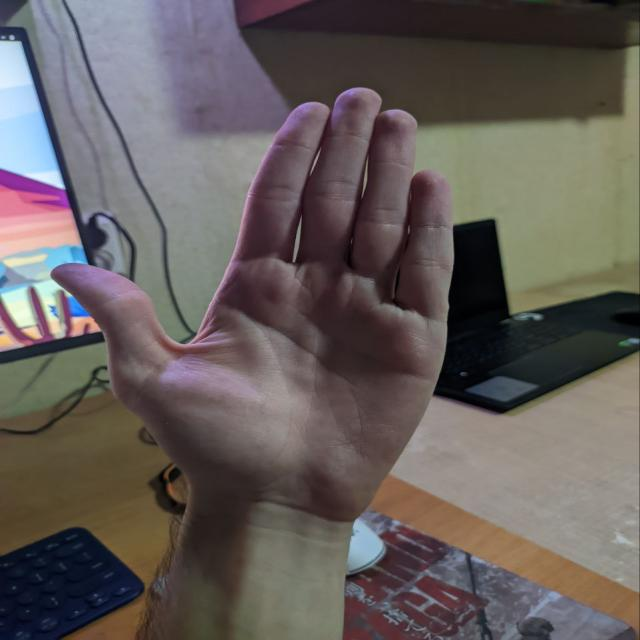v: (64, 40, 468, 503)
